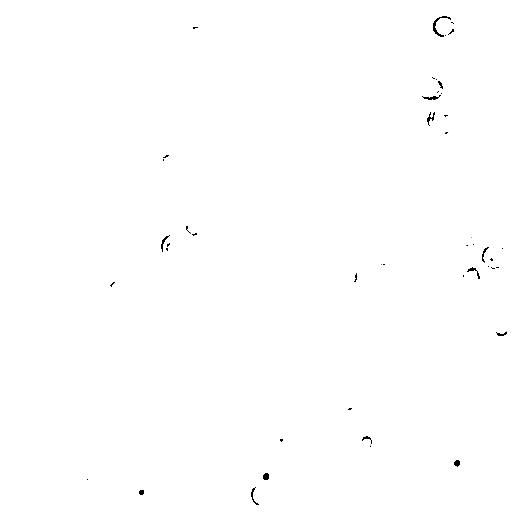micro-algae: (321, 269, 447, 388), (401, 54, 461, 111), (117, 436, 175, 493), (79, 254, 127, 303), (167, 400, 215, 447), (4, 25, 50, 72), (103, 0, 157, 34), (437, 444, 479, 481), (123, 472, 162, 508), (423, 103, 457, 139), (266, 423, 300, 454), (385, 283, 418, 314), (249, 458, 279, 492), (1, 247, 31, 279), (140, 242, 171, 271), (208, 40, 239, 67), (3, 159, 32, 187), (318, 320, 347, 348), (481, 241, 508, 271), (415, 75, 446, 101), (157, 148, 184, 176), (159, 233, 187, 260), (431, 12, 457, 38), (131, 421, 157, 447), (181, 23, 207, 48), (335, 263, 361, 288), (73, 462, 97, 489), (457, 221, 480, 247), (57, 376, 81, 400), (36, 424, 59, 449), (436, 265, 461, 288), (120, 75, 144, 98), (460, 266, 481, 289), (401, 0, 423, 21), (251, 484, 271, 507), (181, 218, 205, 237), (143, 286, 165, 305), (173, 460, 193, 480), (341, 404, 361, 422), (49, 127, 67, 146), (66, 499, 93, 511), (491, 321, 510, 338), (364, 233, 384, 249), (115, 1, 139, 14), (375, 250, 395, 265), (108, 278, 125, 295), (80, 248, 95, 267), (360, 433, 375, 452), (503, 412, 512, 433), (357, 505, 377, 512)
